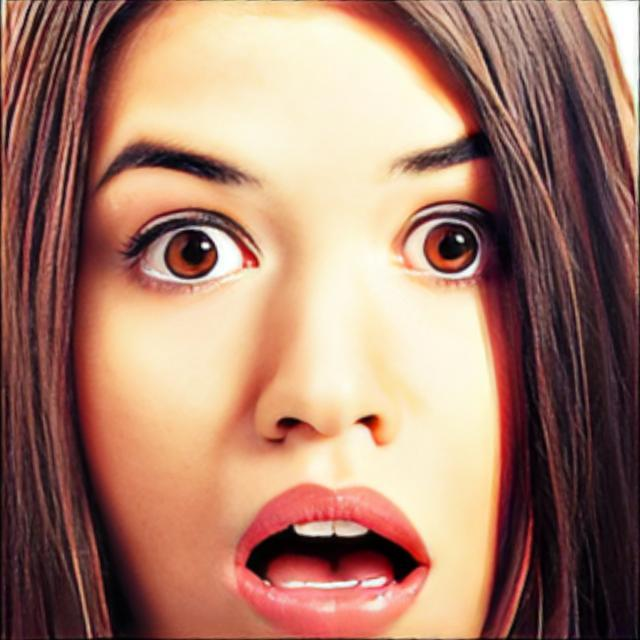surprise: (72, 0, 526, 640)
